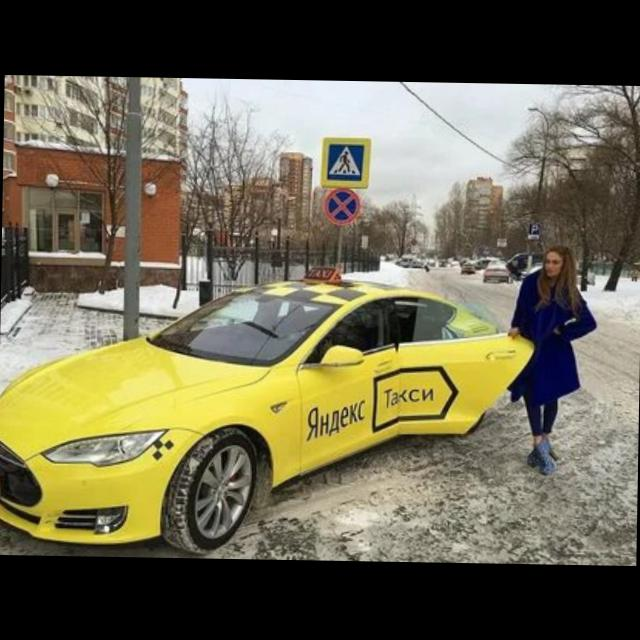taxi: (1, 260, 537, 559)
